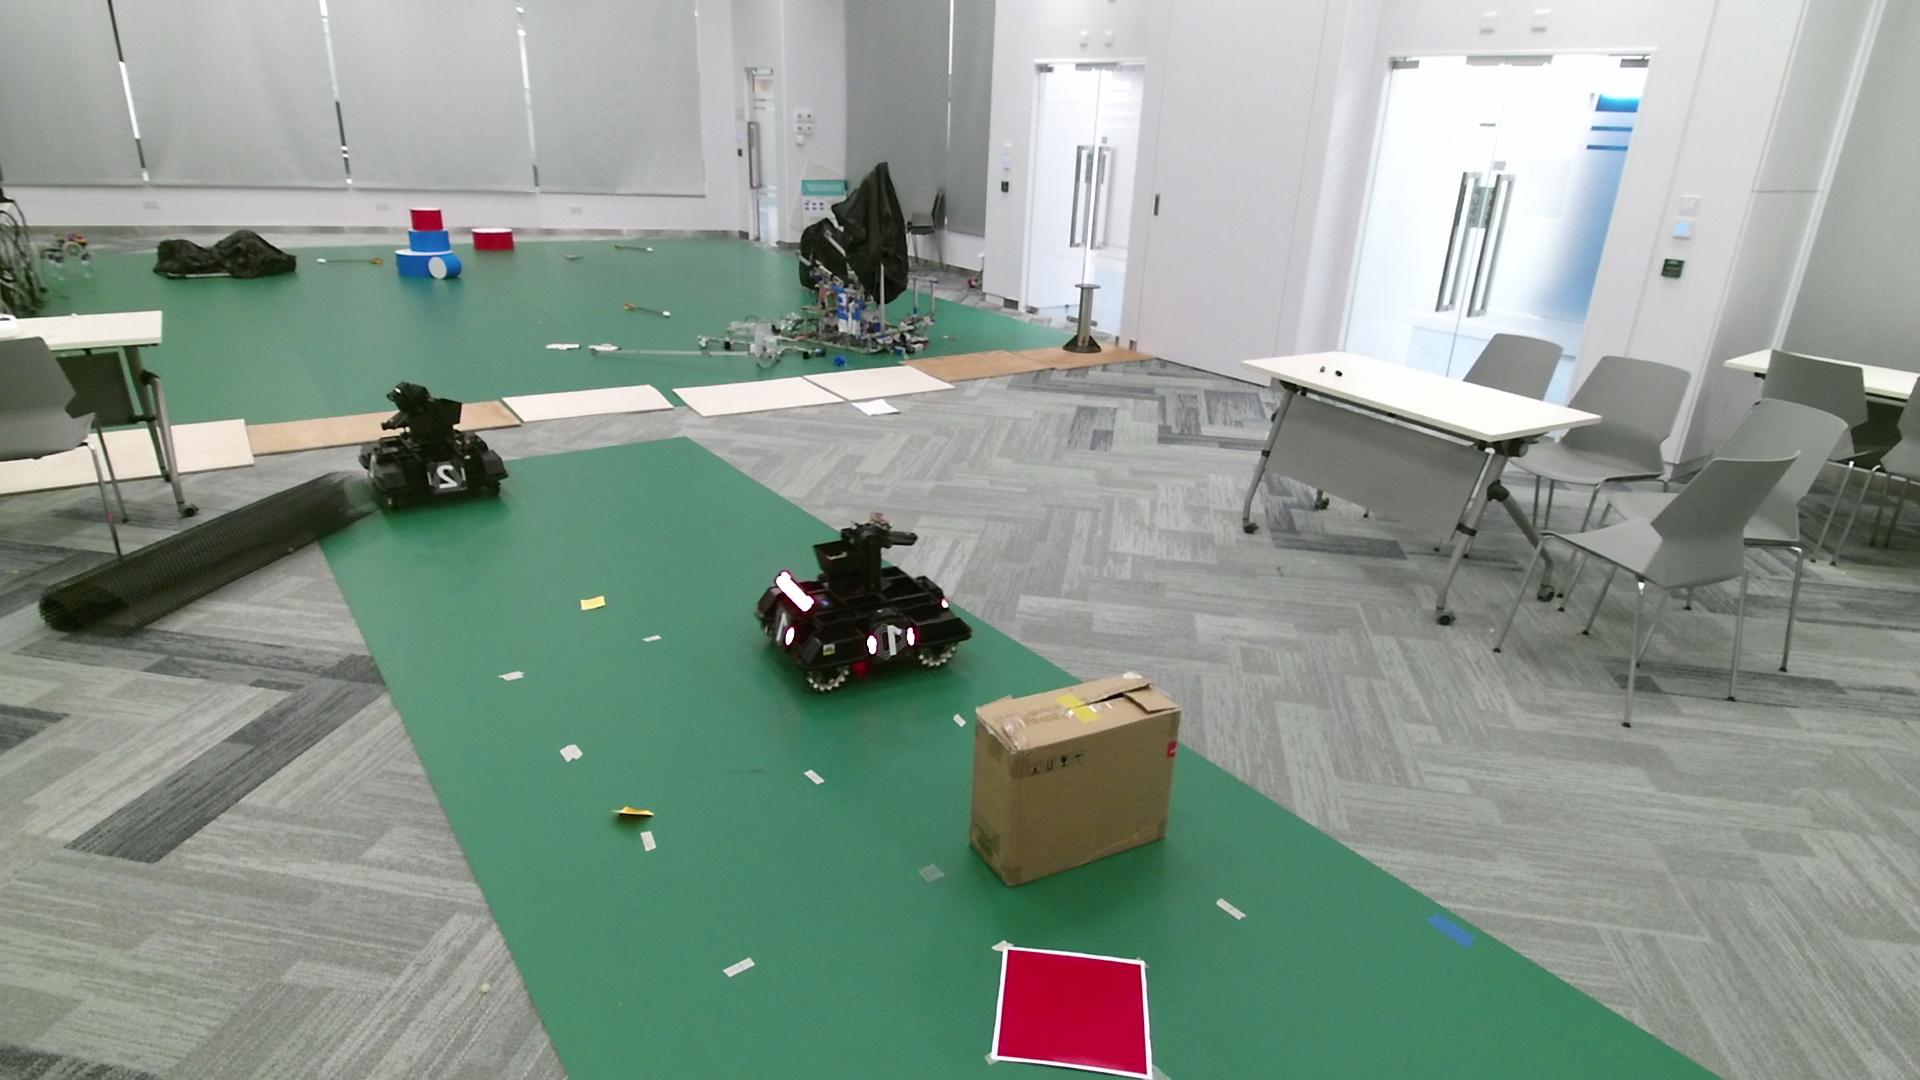robot: (753, 509, 971, 694), (357, 381, 509, 510)
